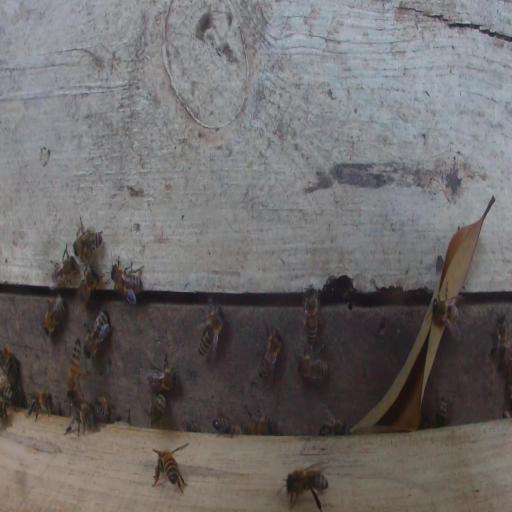nonpollenbee: (284, 463, 329, 511), (152, 443, 188, 493), (257, 325, 284, 383), (198, 304, 224, 358), (83, 310, 111, 360), (51, 242, 81, 288), (73, 218, 104, 262), (297, 341, 329, 382), (149, 351, 178, 393), (65, 398, 95, 436), (110, 263, 142, 297), (43, 296, 67, 336), (303, 284, 319, 344), (26, 388, 54, 422), (492, 312, 509, 366), (78, 265, 100, 306), (67, 337, 81, 394), (212, 414, 241, 437), (0, 348, 23, 377), (148, 392, 167, 427), (241, 415, 274, 435), (319, 414, 348, 435), (434, 299, 458, 324), (93, 396, 115, 423), (436, 396, 447, 427), (1, 400, 12, 429), (0, 382, 13, 402)
